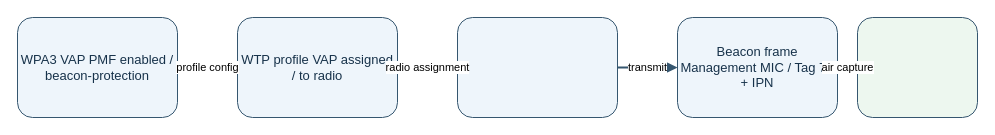
The diagram is 995 pixels wide and 135 high, and some of its shapes have lost their labels. The shapes that lost their labels are listed below. From the top down, each one's centre as x and y in pixels, then its label:
At point (537, 67): "FortiAP radio supported model / FAP 7.6.1+".
At point (917, 67): "Capture proof Extended Capabilities / Beacon Protection flag".
